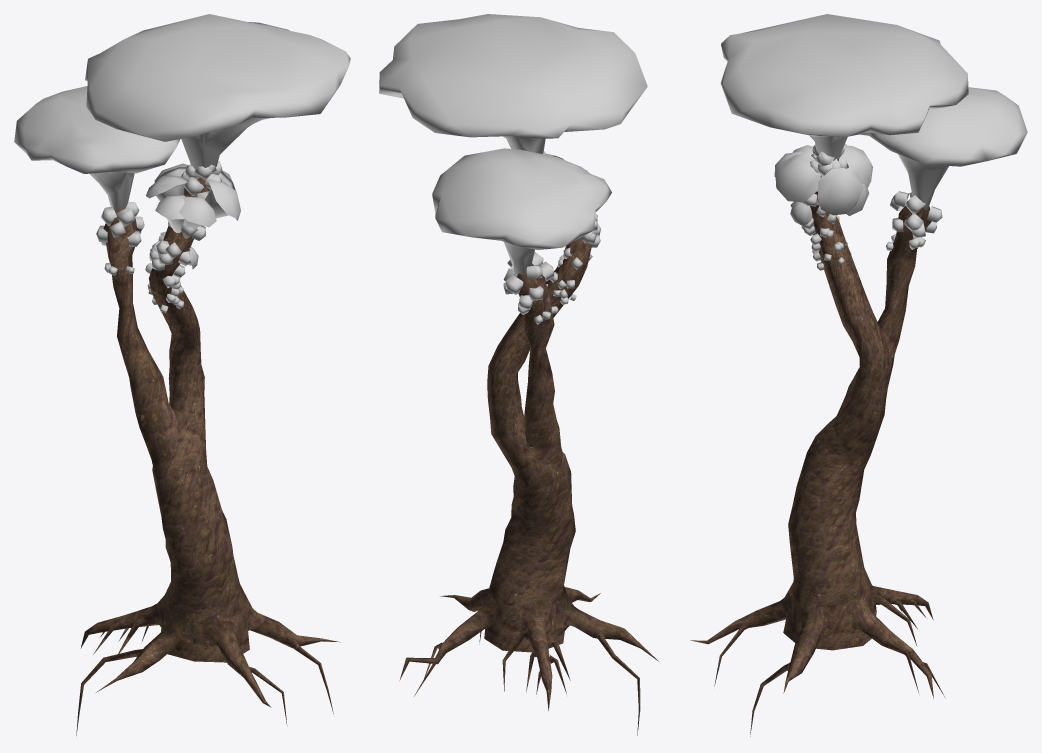
The model's file is Shrooomtree_2_L3.fbx.
3 views of the same model, side by side, from view 1: azimuth 30°, elevation 25°; view 2: azimuth 150°, elevation 25°; view 3: azimuth 270°, elevation 25° (orthographic).
Visible parts, largest first — view 1: polySurface108; view 2: polySurface108; view 3: polySurface108.
Part boxes in pixels (bbox=[...]): polySurface108: bbox=[14, 14, 350, 735]; polySurface108: bbox=[379, 14, 658, 735]; polySurface108: bbox=[690, 14, 1027, 736].
Bounding box in the file's own units: 547 × 1353 × 628.
